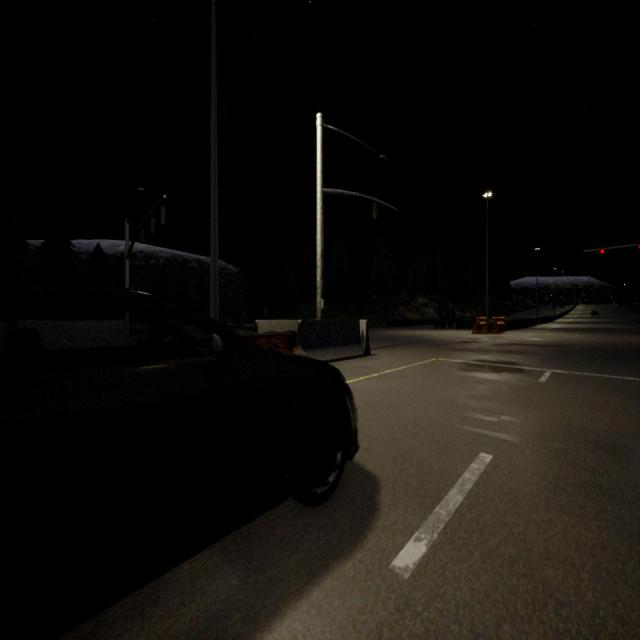Vehicle: (0, 289, 358, 637), (591, 309, 599, 316)
traffic_light: (373, 202, 379, 220), (600, 248, 605, 254), (638, 245, 640, 249)
